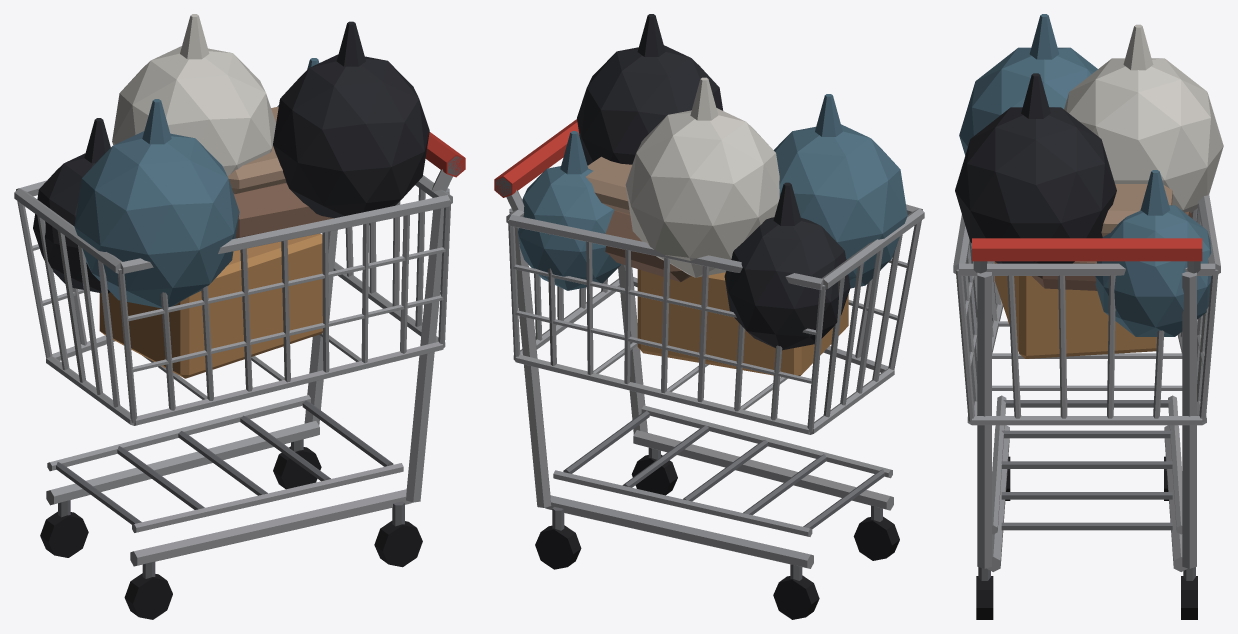
The model's file is loadedcart.glb.
3 views of the same model, side by side, from view 1: azimuth 30°, elevation 25°; view 2: azimuth 150°, elevation 25°; view 3: azimuth 270°, elevation 25° (orthographic). The views are drawn at different scales.
Parts seen in each view (by area): view 1: loadedcart; view 2: loadedcart; view 3: loadedcart.
Part boxes in pixels (bbox=[...]): loadedcart: bbox=[14, 14, 465, 619]; loadedcart: bbox=[494, 14, 924, 619]; loadedcart: bbox=[953, 14, 1223, 619].
Bounding box in the file's own units: 0.9398 × 1.38 × 0.6338.
